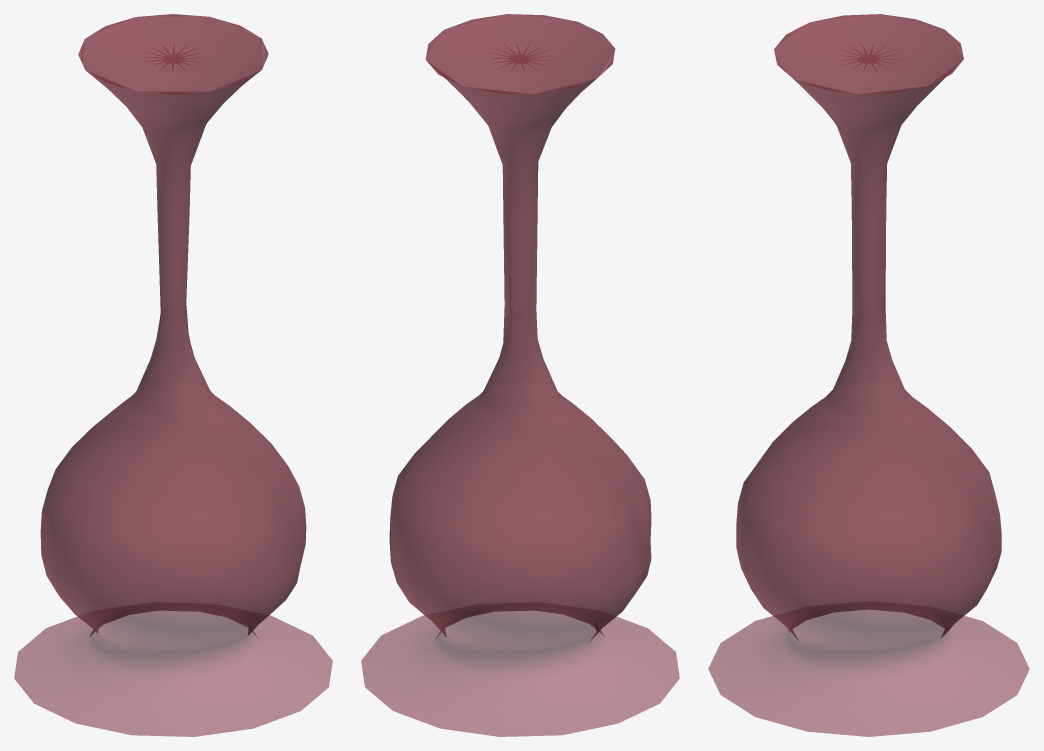
Rendered from red room bottle2.fbx.
3 renders of one model, left to right at view 1: azimuth 30°, elevation 25°; view 2: azimuth 150°, elevation 25°; view 3: azimuth 270°, elevation 25°, orthographic.
Parts seen in each view (by area): view 1: nurbsToPoly1; view 2: nurbsToPoly1; view 3: nurbsToPoly1.
Part boxes in pixels (x1,y1,x2,y2): nurbsToPoly1: (14,14,332,736); nurbsToPoly1: (361,14,679,736); nurbsToPoly1: (708,14,1029,736).
Size of the model in its own units: 17.36 by 36.61 by 17.36.
